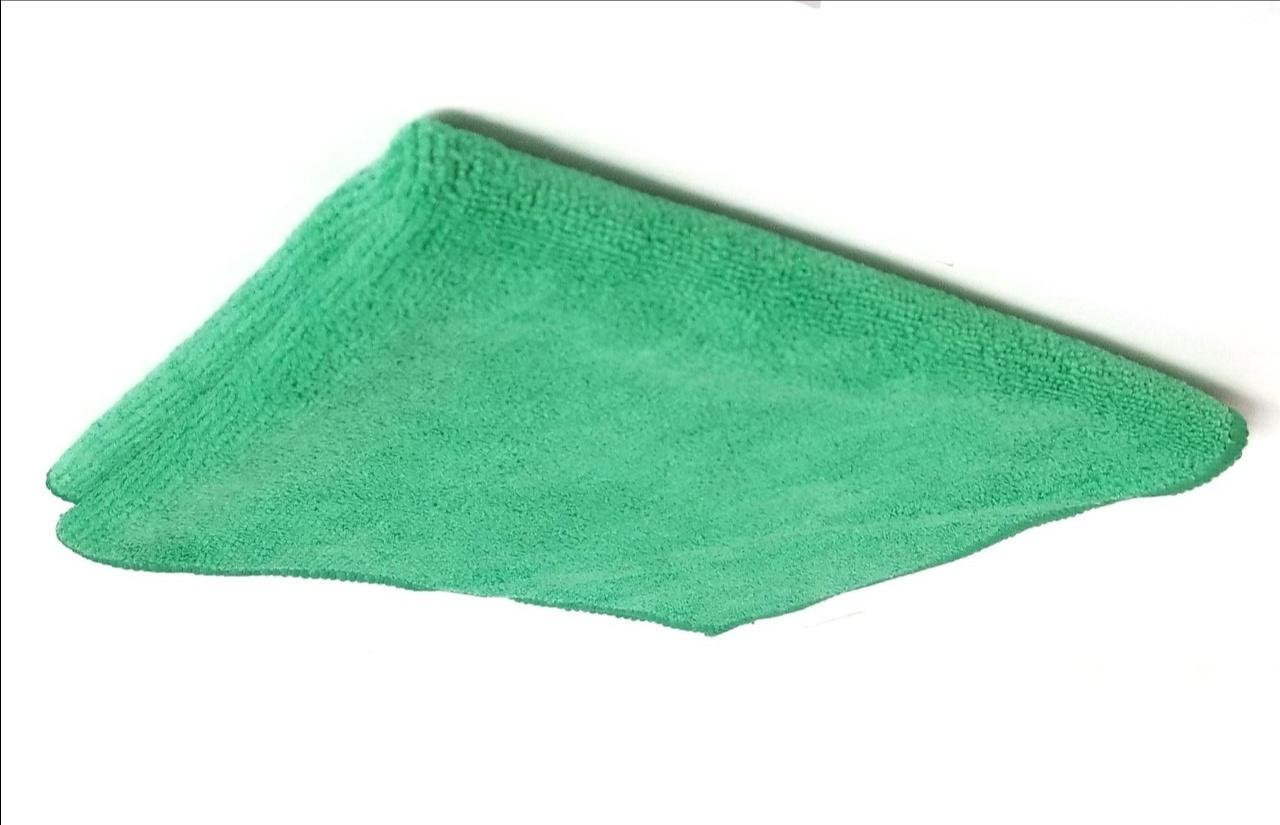towel: (0, 102, 1280, 638)
